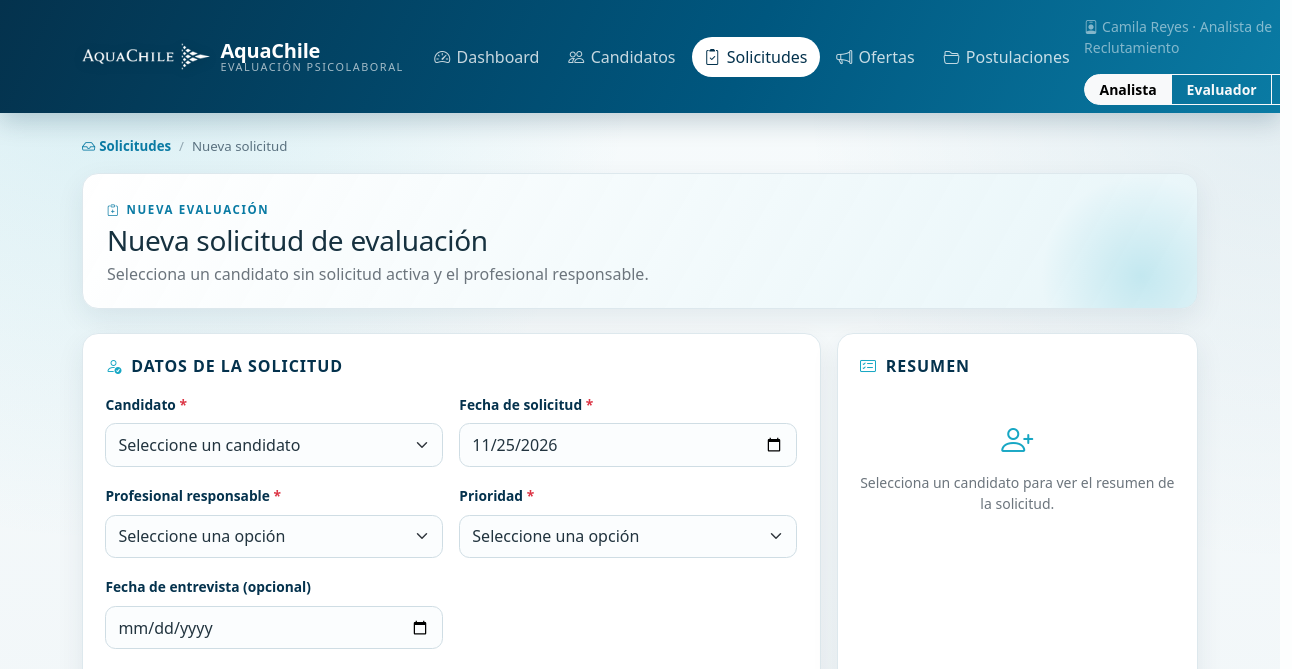
Scenario: SolicitudFormPage — creación y permisos › crea una solicitud y vuelve a la bandeja
Select "Constanza Fuentes · Ingeniero de Procesos" in the dropdown labelled "Candidato *" at [274, 445], box [105,423,443,467]
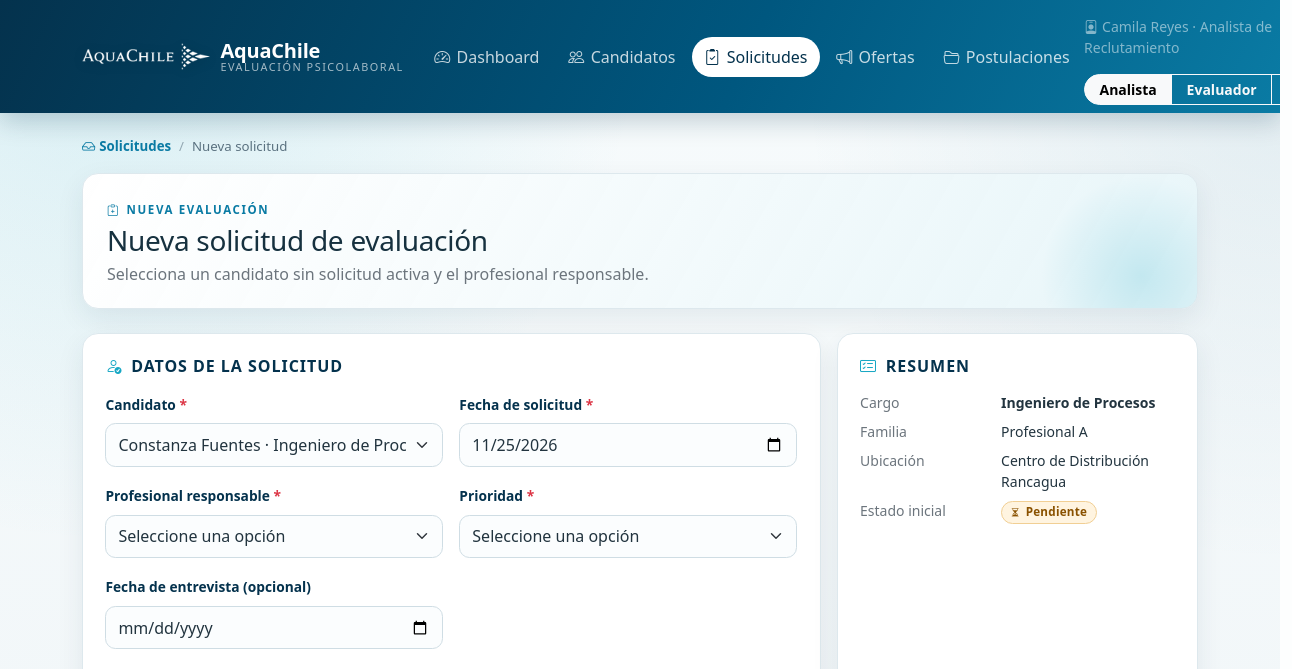
Select "Valeria Ospina" in the dropdown labelled "Profesional responsable *" at [274, 536], box [105,515,443,558]
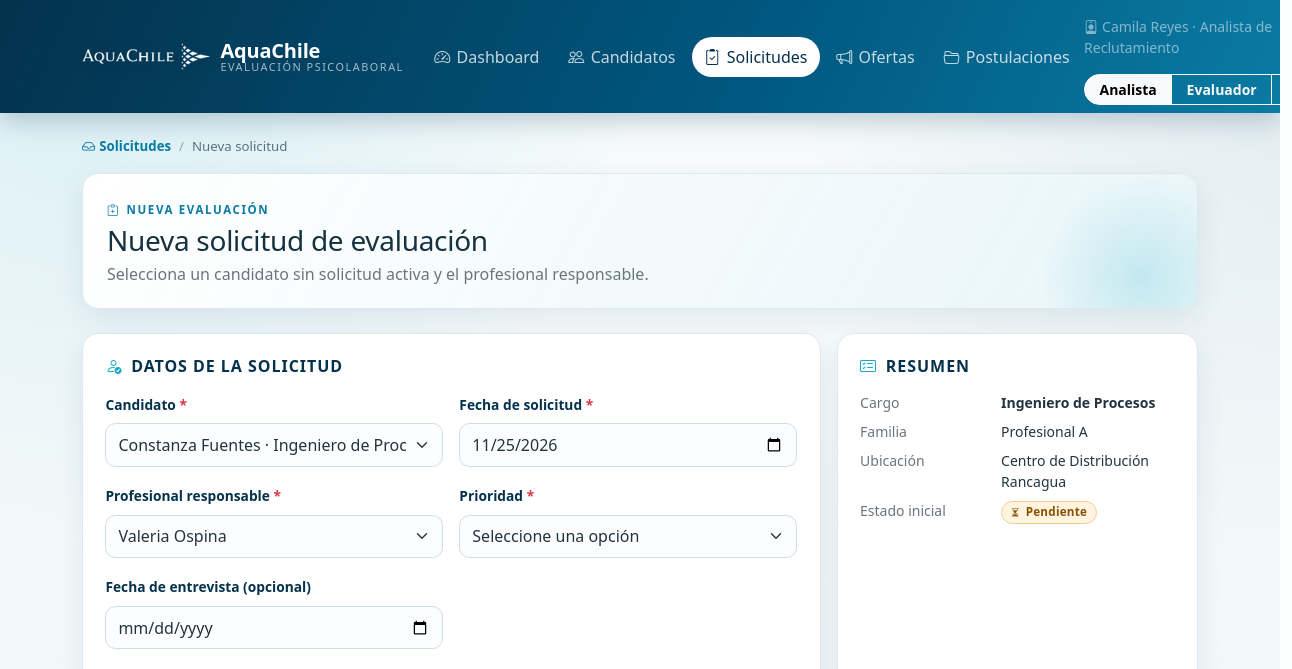
Select "Alta" in the dropdown labelled "Prioridad *" at [628, 536], box [459,515,797,558]
(page scrolled)
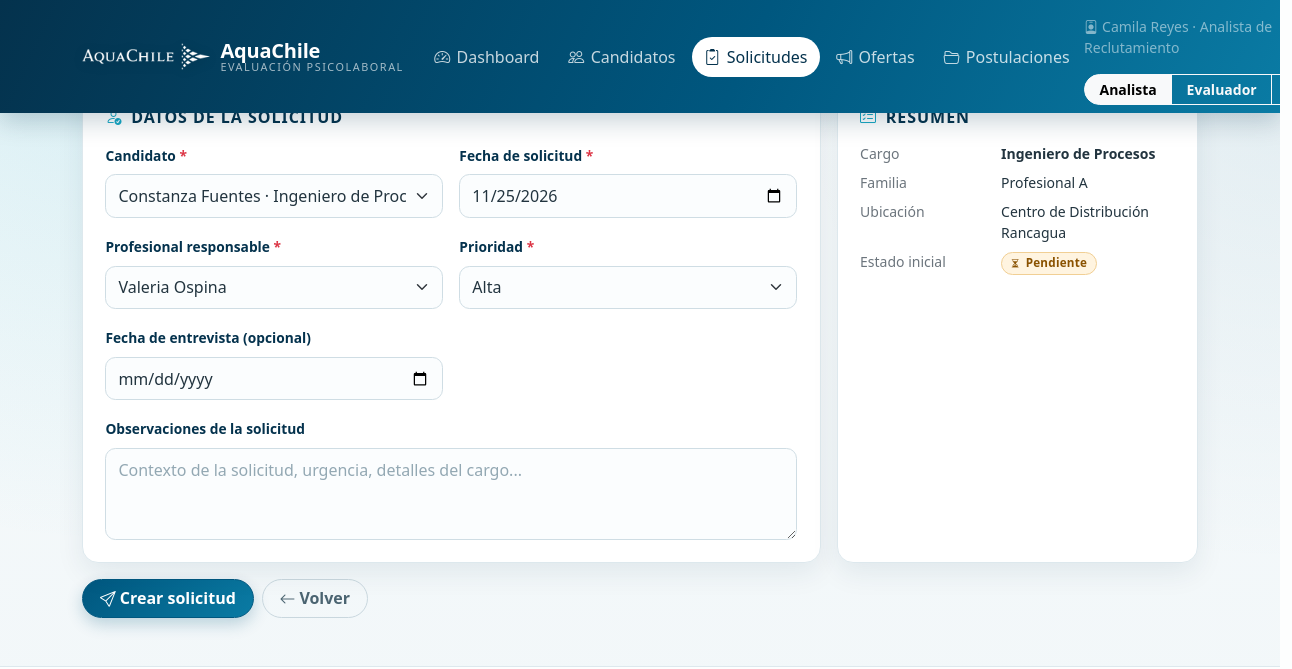
Type "Solicitud creada desde la prueba de interfaz." into the text box labelled "Observaciones de la solicitud" at [451, 494], box [105,448,797,540]
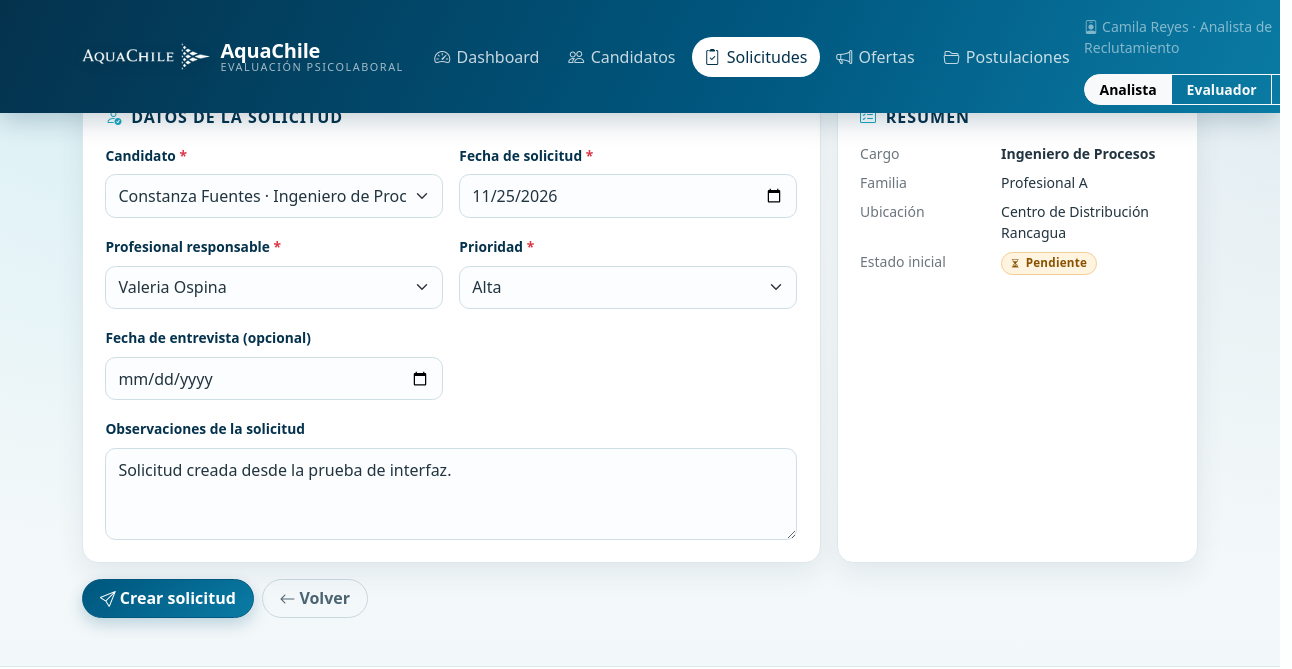
Click the button "Crear solicitud" at [168, 599], box [82,579,254,618]
(page scrolled)
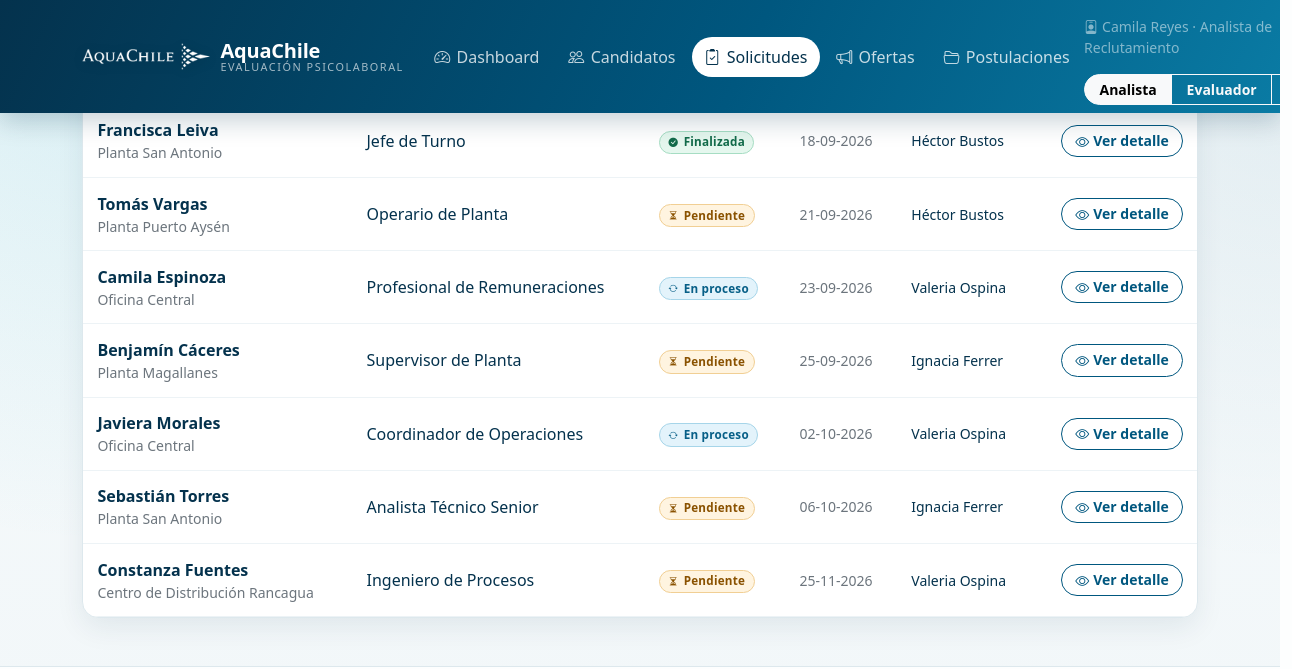
Expected: the text "Constanza Fuentes" is shown, [97,558,248,580]
